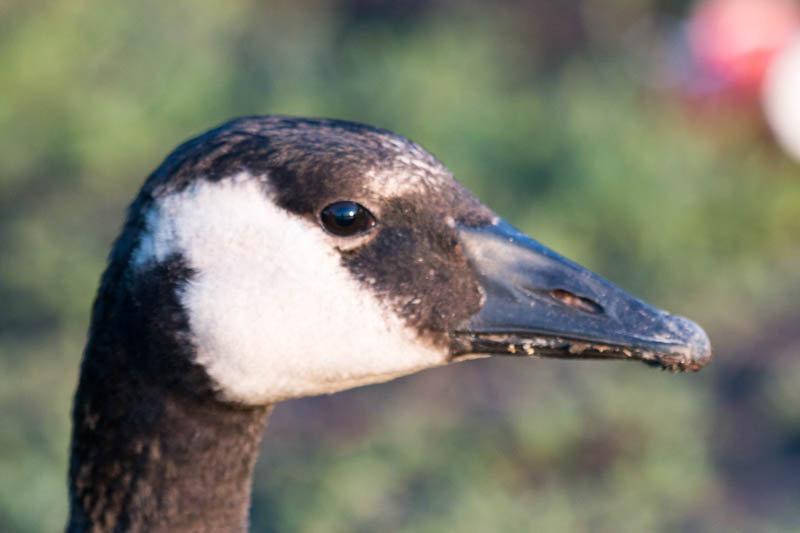goose-head: (88, 115, 713, 411)
